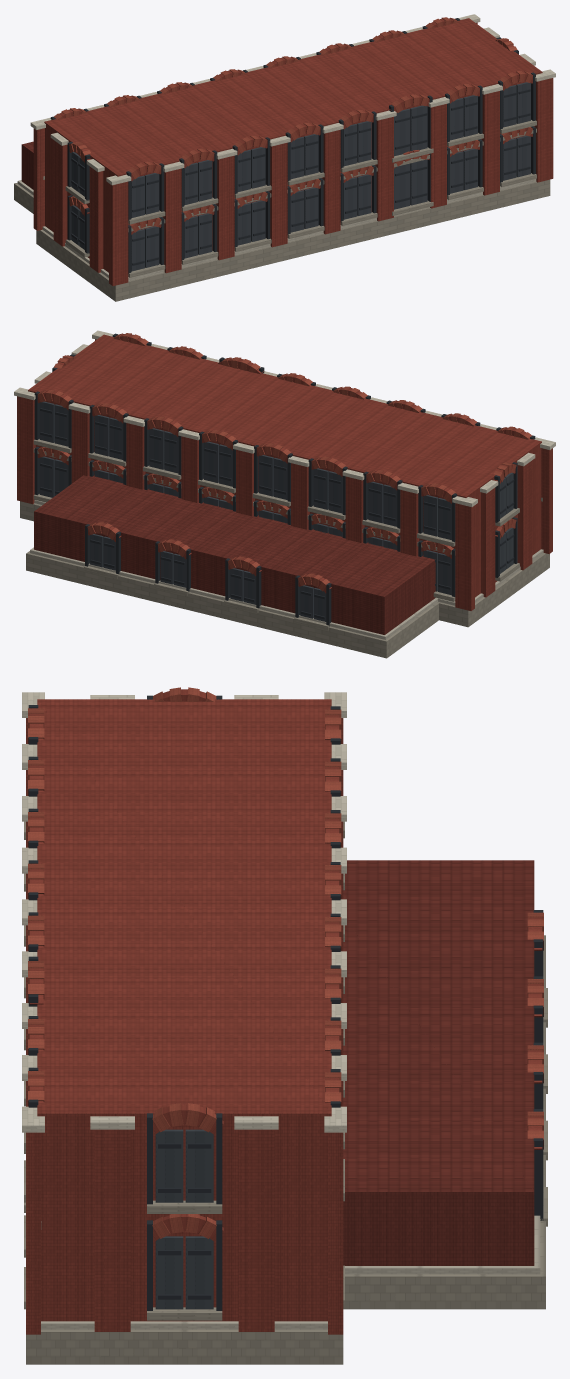
File: fun-2-construction.glb
3 renders of one model, top to bottom at view 1: azimuth 30°, elevation 25°; view 2: azimuth 150°, elevation 25°; view 3: azimuth 270°, elevation 25°, orthographic. The views are drawn at different scales.
Size of the model in its own units: 31.36 by 8.81 by 16.08.
14 materials, 12 textured.
